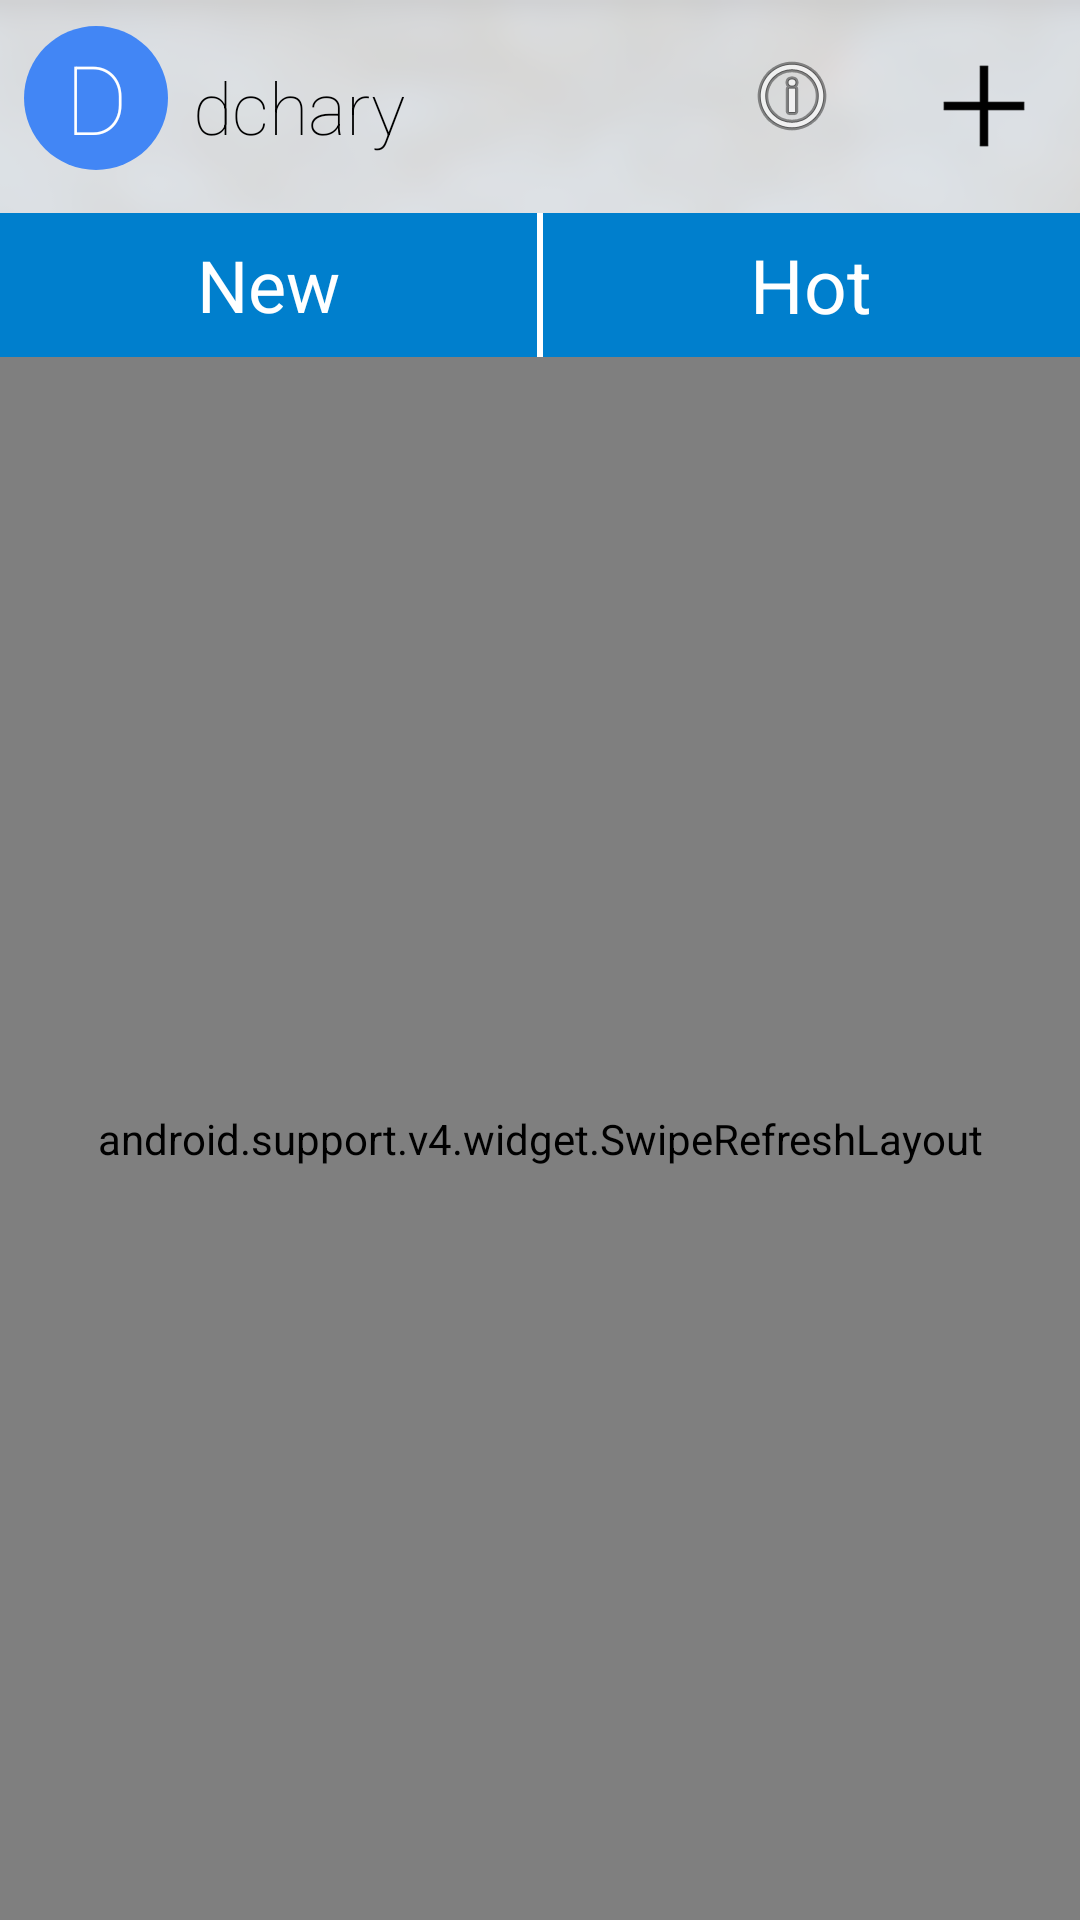

Icon click points for this 1080*1920 phone screenshot, format (x=x, y=y):
info details: (x=792, y=96)
plus: (x=984, y=106)
